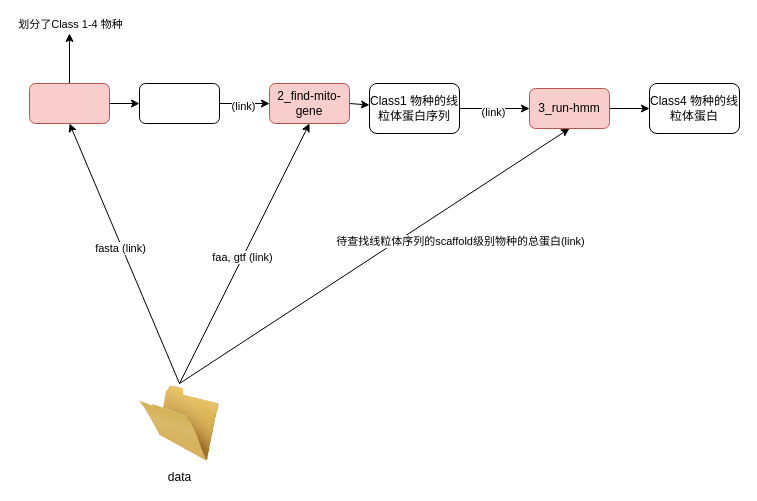
This 757x501 diagram has some shape labels left out. Here are the shapes that lost their labels. From the top down, the centre of each, then its label:
At (69,103): "1_which-chrom-mito".
At (179,103): "各物种哪条染色体对应线粒体".
